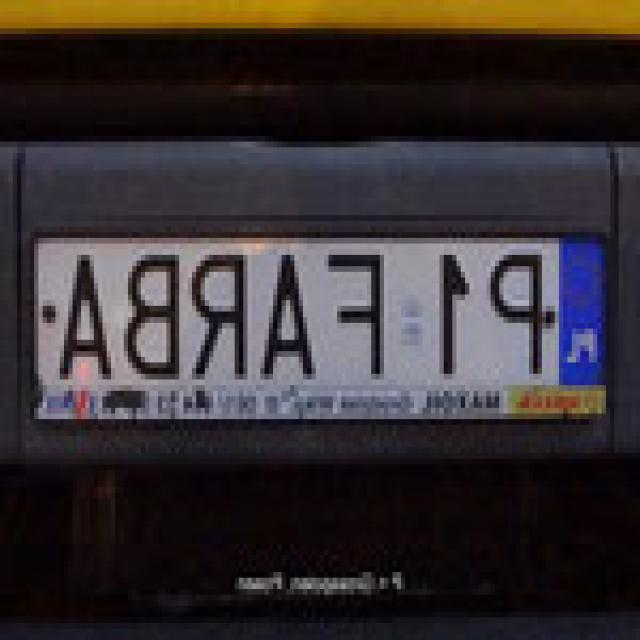pl_license_plate: (43, 232, 610, 380)
